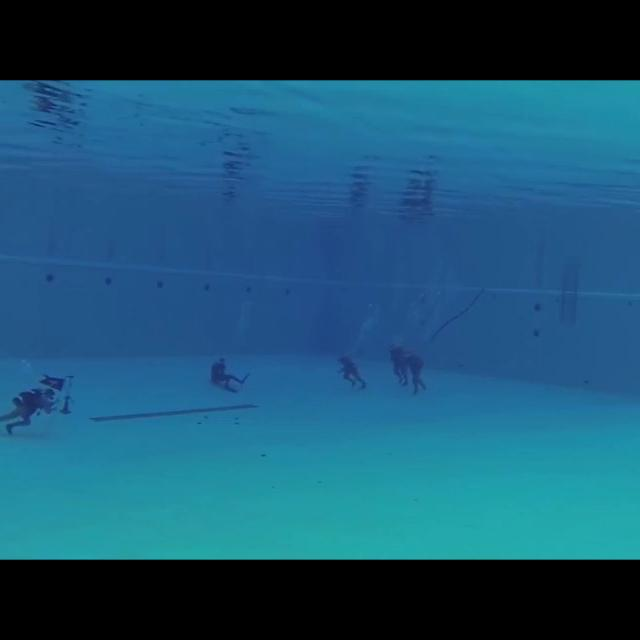human: (0, 369, 78, 437), (206, 349, 253, 397), (331, 343, 369, 393), (384, 337, 412, 393), (408, 350, 433, 406)
